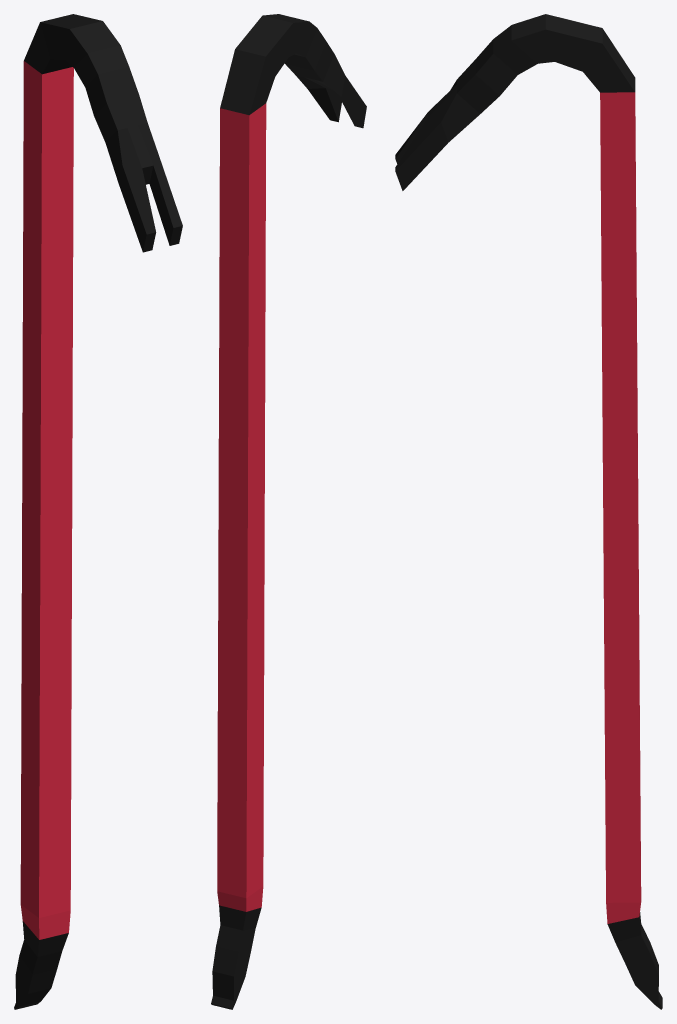
Rendered from crowbar.glb.
The picture shows the model from 3 angles, left to right: view 1: azimuth 30°, elevation 25°; view 2: azimuth 150°, elevation 25°; view 3: azimuth 270°, elevation 25°; orthographic projection. The views are drawn at different scales.
Visible parts, largest first — view 1: Cube; view 2: Cube; view 3: Cube.
Part boxes in pixels (x1,y1,x2,y2): Cube: (14,14,182,1009); Cube: (211,14,366,1009); Cube: (395,14,662,1009).
Bounding box in the file's own units: 0.2065 × 5.51 × 1.36.
